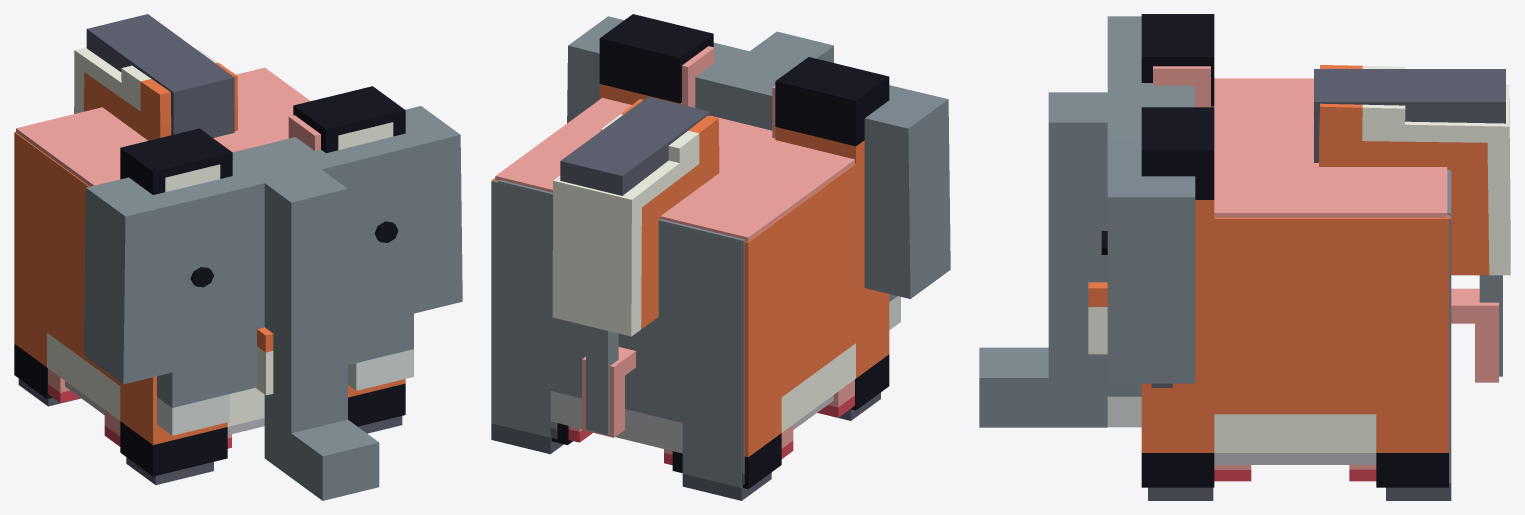
The model's file is mancraft animals.fbx.
3 views of the same model, side by side, from view 1: azimuth 30°, elevation 25°; view 2: azimuth 150°, elevation 25°; view 3: azimuth 270°, elevation 25° (orthographic). The views are drawn at different scales.
Visible parts, largest first — view 1: Cube.003, Cube.001, Cube.002, Cube; view 2: Cube.001, Cube, Cube.003, Cube.002; view 3: Cube.001, Cube.003, Cube.002, Cube.
Boxes of the visible parts, box(x1,y1,x2,y2) form: Cube.003: box(83, 106, 462, 500); Cube.001: box(14, 47, 405, 476); Cube.002: box(16, 67, 320, 448); Cube: box(18, 14, 402, 484); Cube.001: box(492, 14, 889, 489); Cube: box(491, 96, 880, 500); Cube.003: box(498, 16, 950, 484); Cube.002: box(495, 46, 854, 465); Cube.001: box(1088, 14, 1510, 487); Cube.003: box(979, 16, 1502, 427); Cube.002: box(1153, 66, 1498, 481); Cube: box(1148, 69, 1505, 500).
Size of the model in its own units: 138 by 123 by 169.
